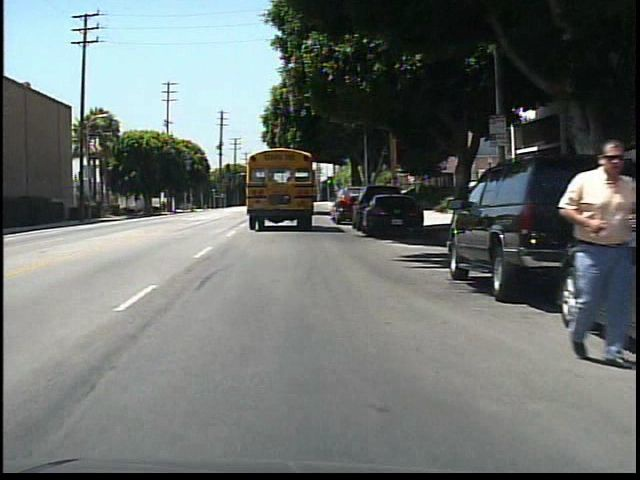person: (544, 132, 625, 366)
